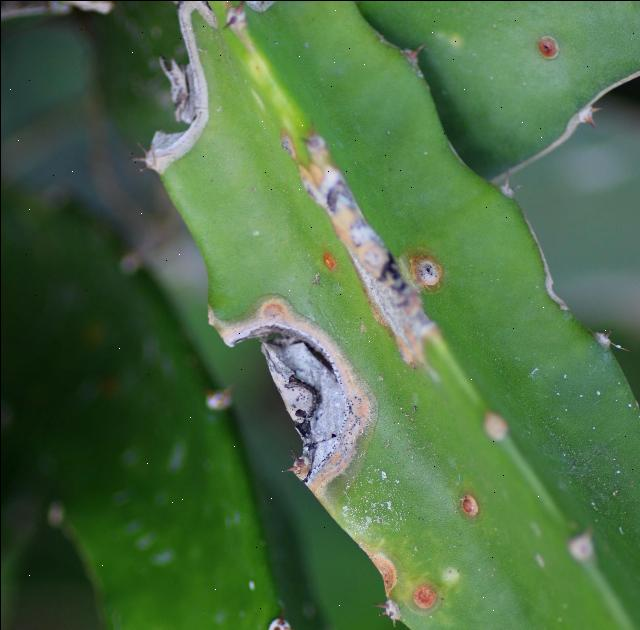stemcanker: (254, 131, 477, 372), (208, 282, 382, 496)
